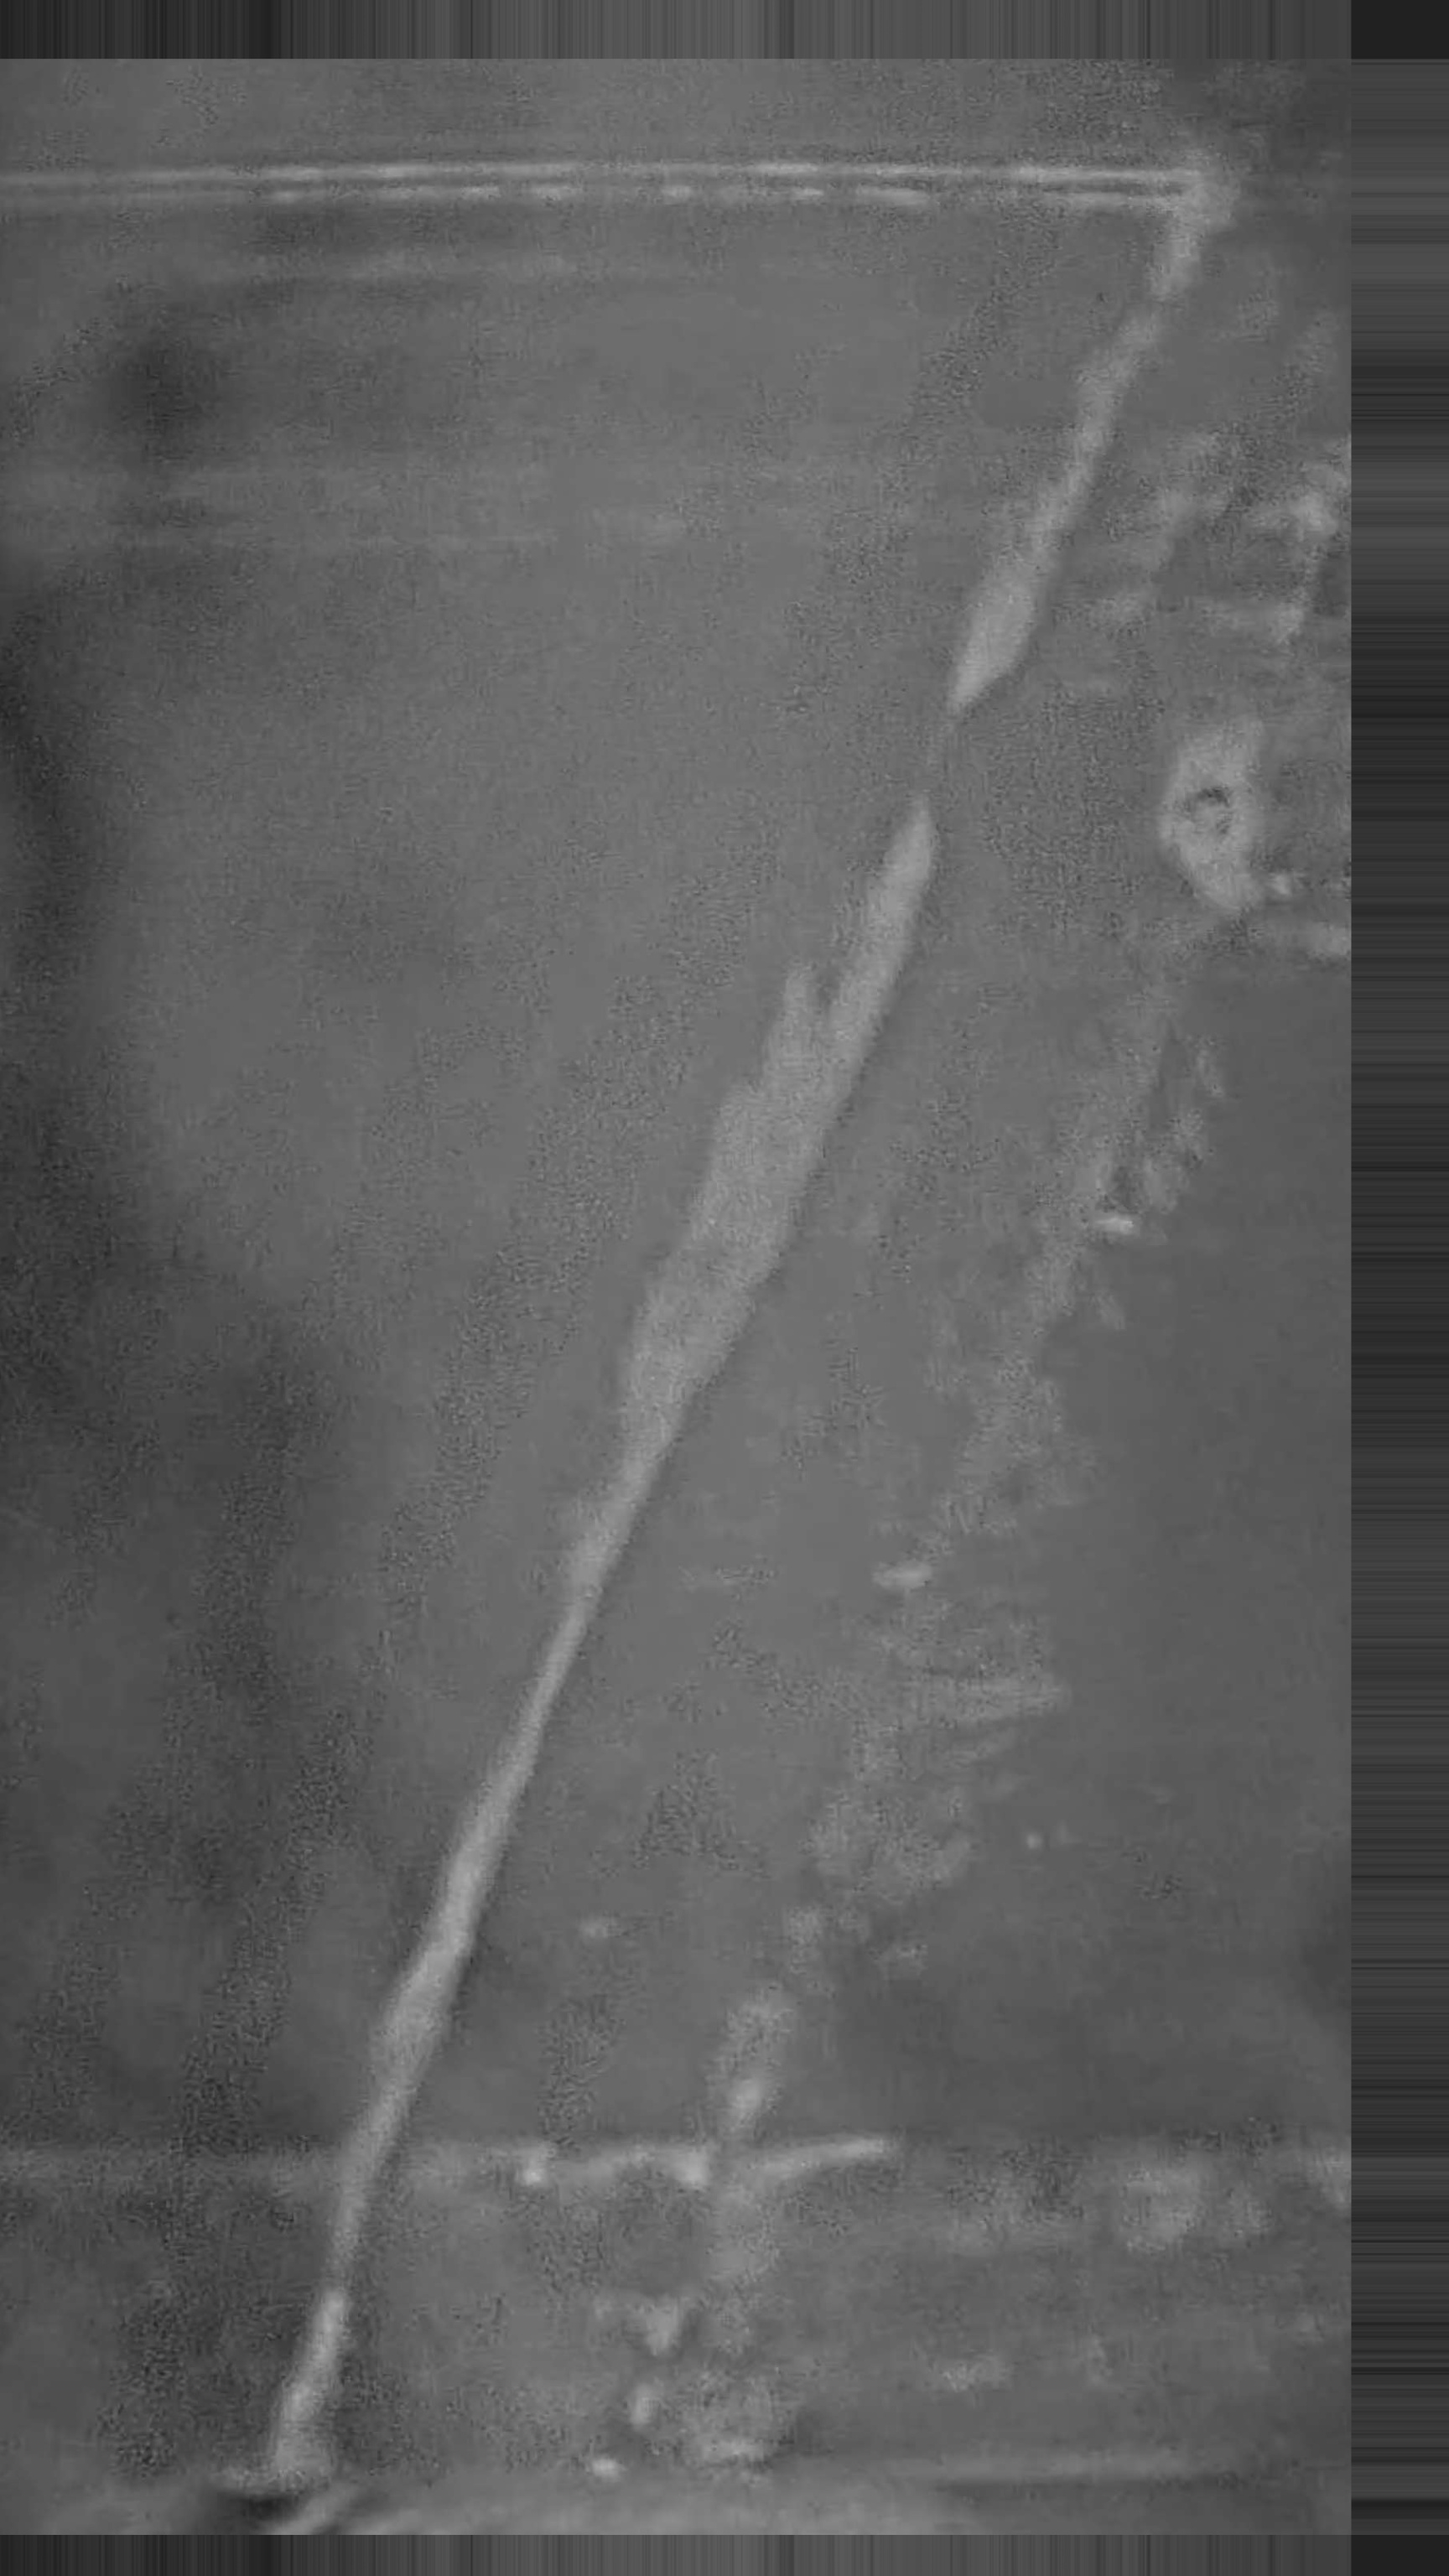splice_vulcanized: (147, 58, 1350, 2534)
